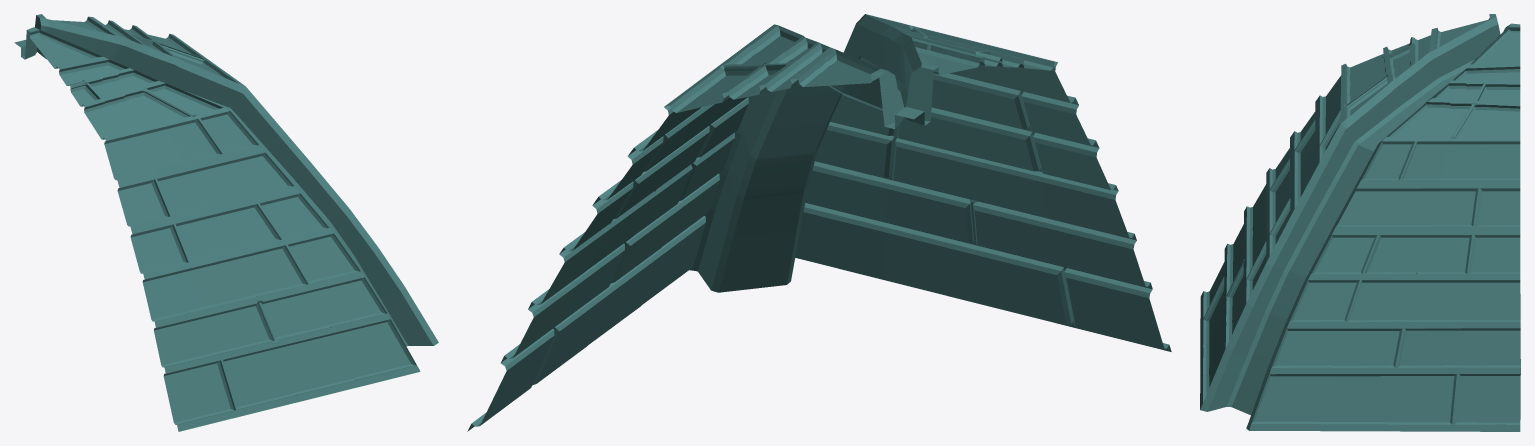
The model's file is Brick_Corner_None.fbx.
3 renders of one model, left to right at view 1: azimuth 30°, elevation 25°; view 2: azimuth 150°, elevation 25°; view 3: azimuth 270°, elevation 25°, orthographic. The views are drawn at different scales.
Visible parts, largest first — view 1: Brick_Corner_None; view 2: Brick_Corner_None; view 3: Brick_Corner_None.
Boxes of the visible parts, x1,y1,x2,y2 form: Brick_Corner_None: [14, 14, 438, 431]; Brick_Corner_None: [467, 14, 1171, 431]; Brick_Corner_None: [1200, 14, 1520, 431].
Size of the model in its own units: 199 by 195 by 199.
